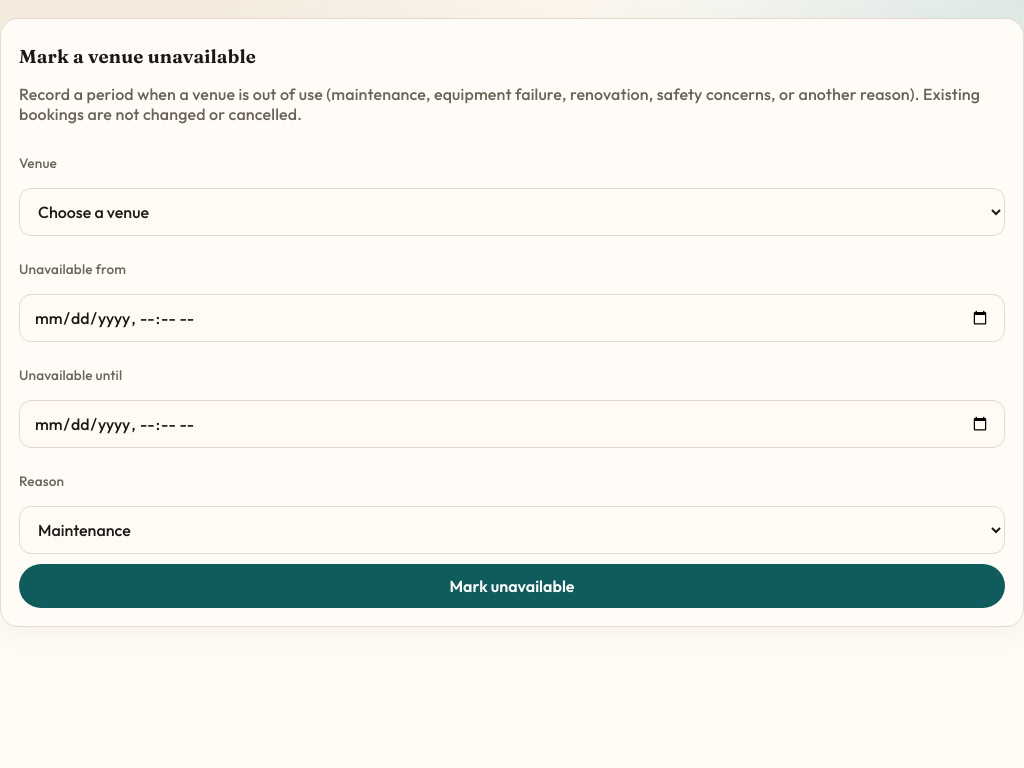
Test case: SCRUM-72 BlockVenueCard › offers every reason the AC names, plus Other with free text
expect the field with placeholder "Describe the reason" is not shown: met
Select "Other" in the dropdown labelled "Reason". click: [512, 530]
box: top-left (19, 506), bottom-right (1005, 554)
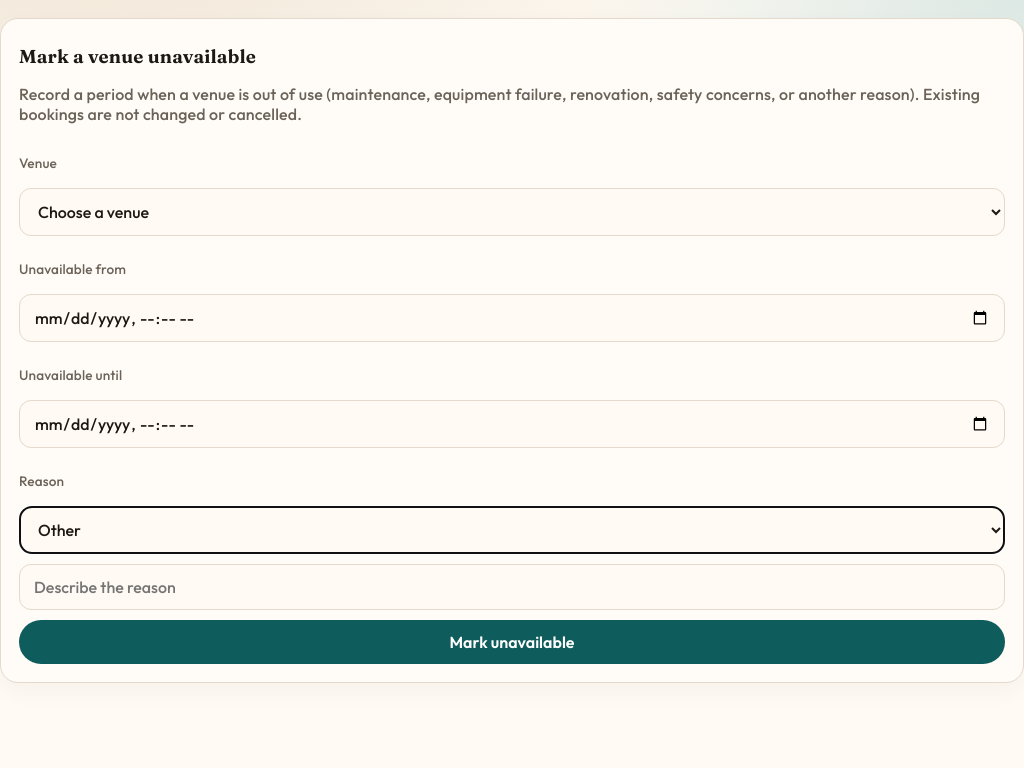
expect the field with placeholder "Describe the reason" is shown: met, box top-left (19, 564), bottom-right (1005, 610)
